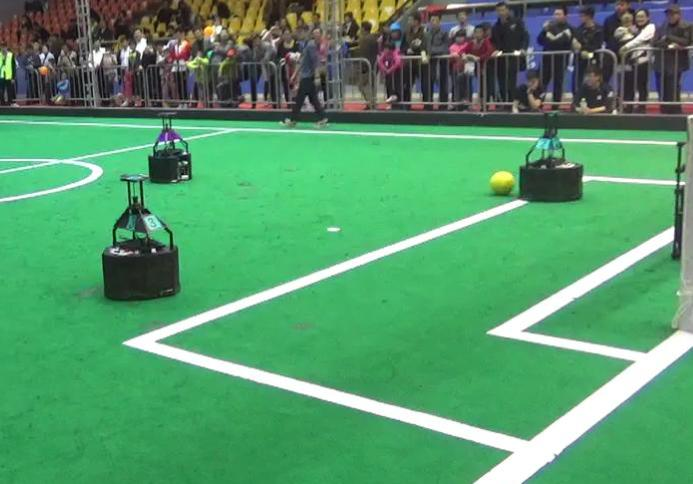robot: (96, 172, 187, 301), (515, 108, 587, 205), (143, 108, 196, 184)
